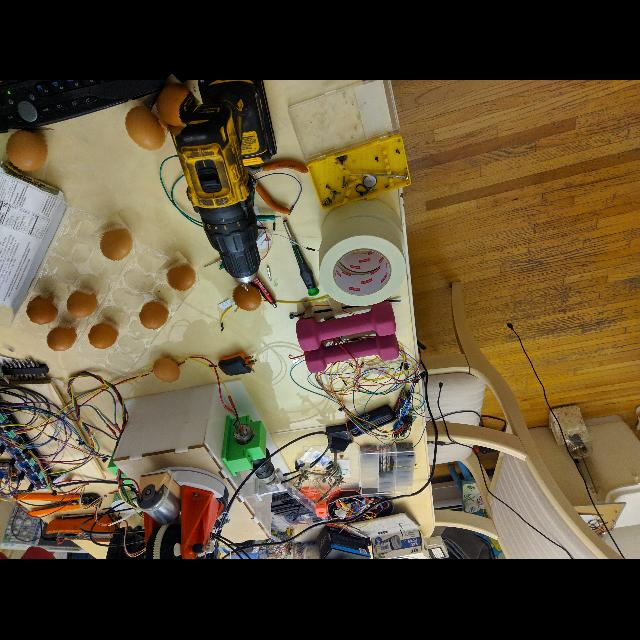Egg: (146, 77, 200, 133), (88, 218, 140, 272), (2, 122, 52, 178), (121, 100, 171, 154), (160, 254, 200, 298), (20, 292, 60, 330), (149, 351, 185, 389), (64, 286, 100, 322), (228, 282, 264, 318), (137, 294, 171, 332), (87, 317, 119, 353), (44, 321, 76, 355)
